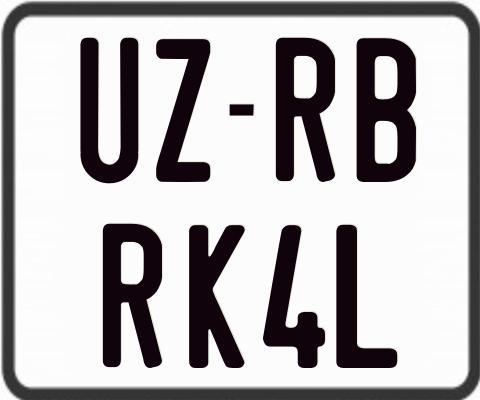4: (262, 224, 328, 367)
B: (355, 35, 420, 184)
K: (187, 225, 247, 369)
L: (333, 224, 400, 369)
R: (275, 35, 340, 183), (100, 223, 164, 372)
U: (79, 35, 143, 180)
Z: (155, 37, 214, 186)
